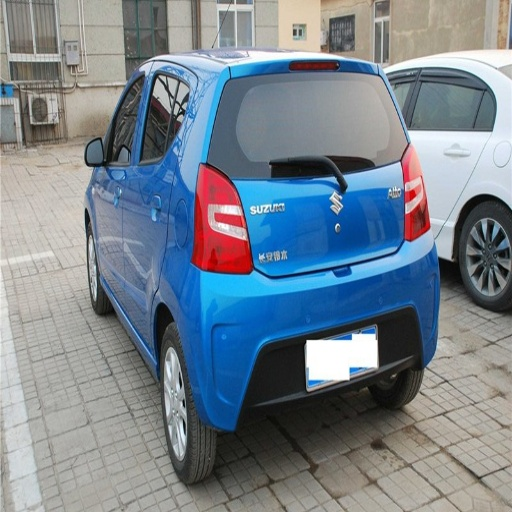back_bumper: (172, 239, 436, 426)
back_glass: (238, 73, 387, 149)
back_left_door: (419, 68, 488, 214), (137, 89, 175, 162)
back_left_light: (192, 163, 250, 270)
tailgate: (228, 176, 291, 274)
trunk: (237, 153, 399, 274)
